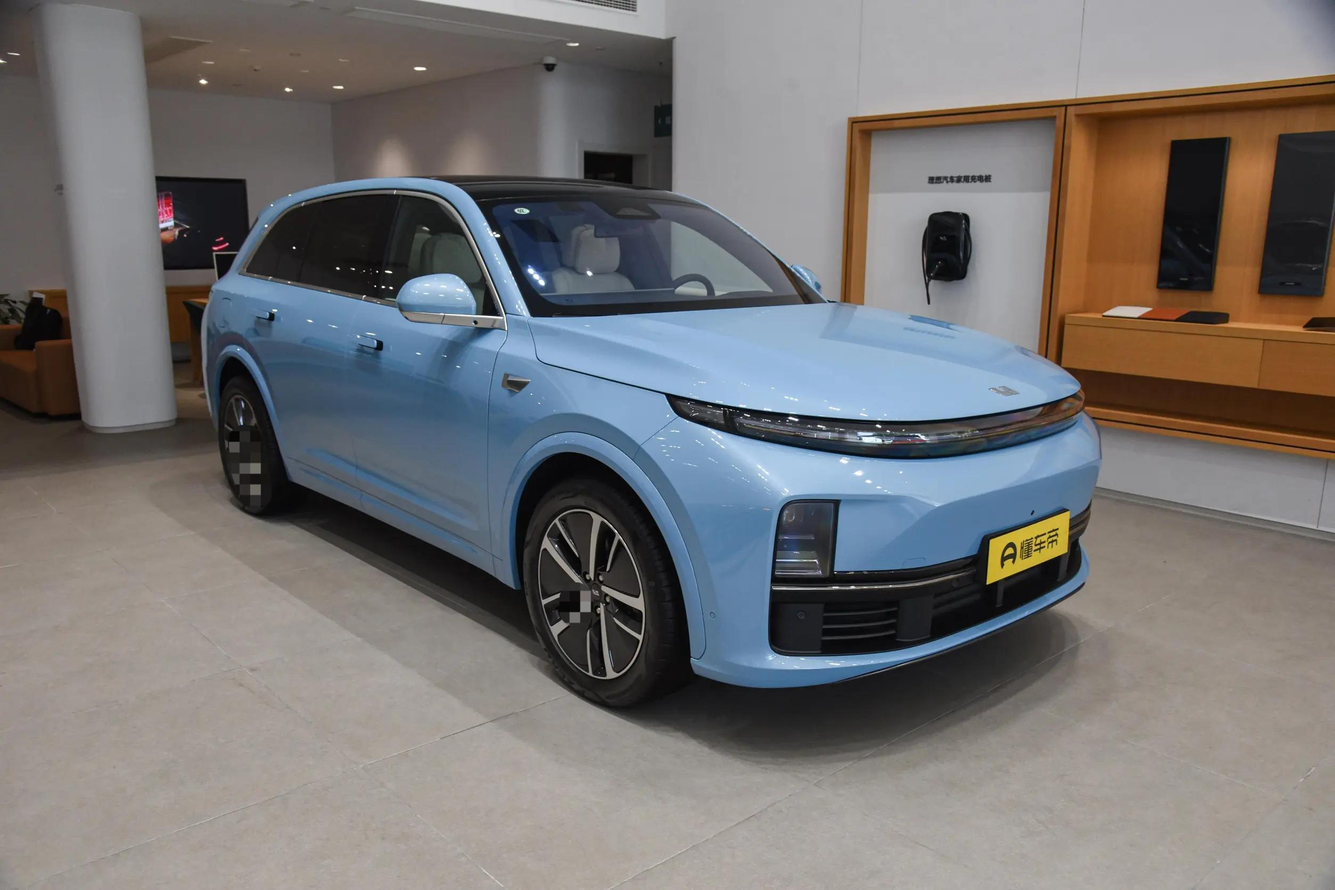Li Auto: (988, 385, 1021, 396)
